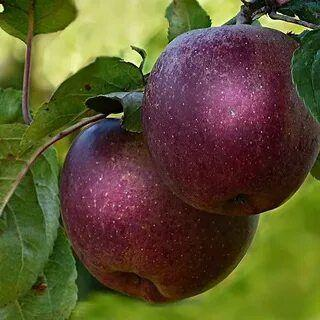Apple: (61, 122, 262, 305), (142, 28, 320, 218)
